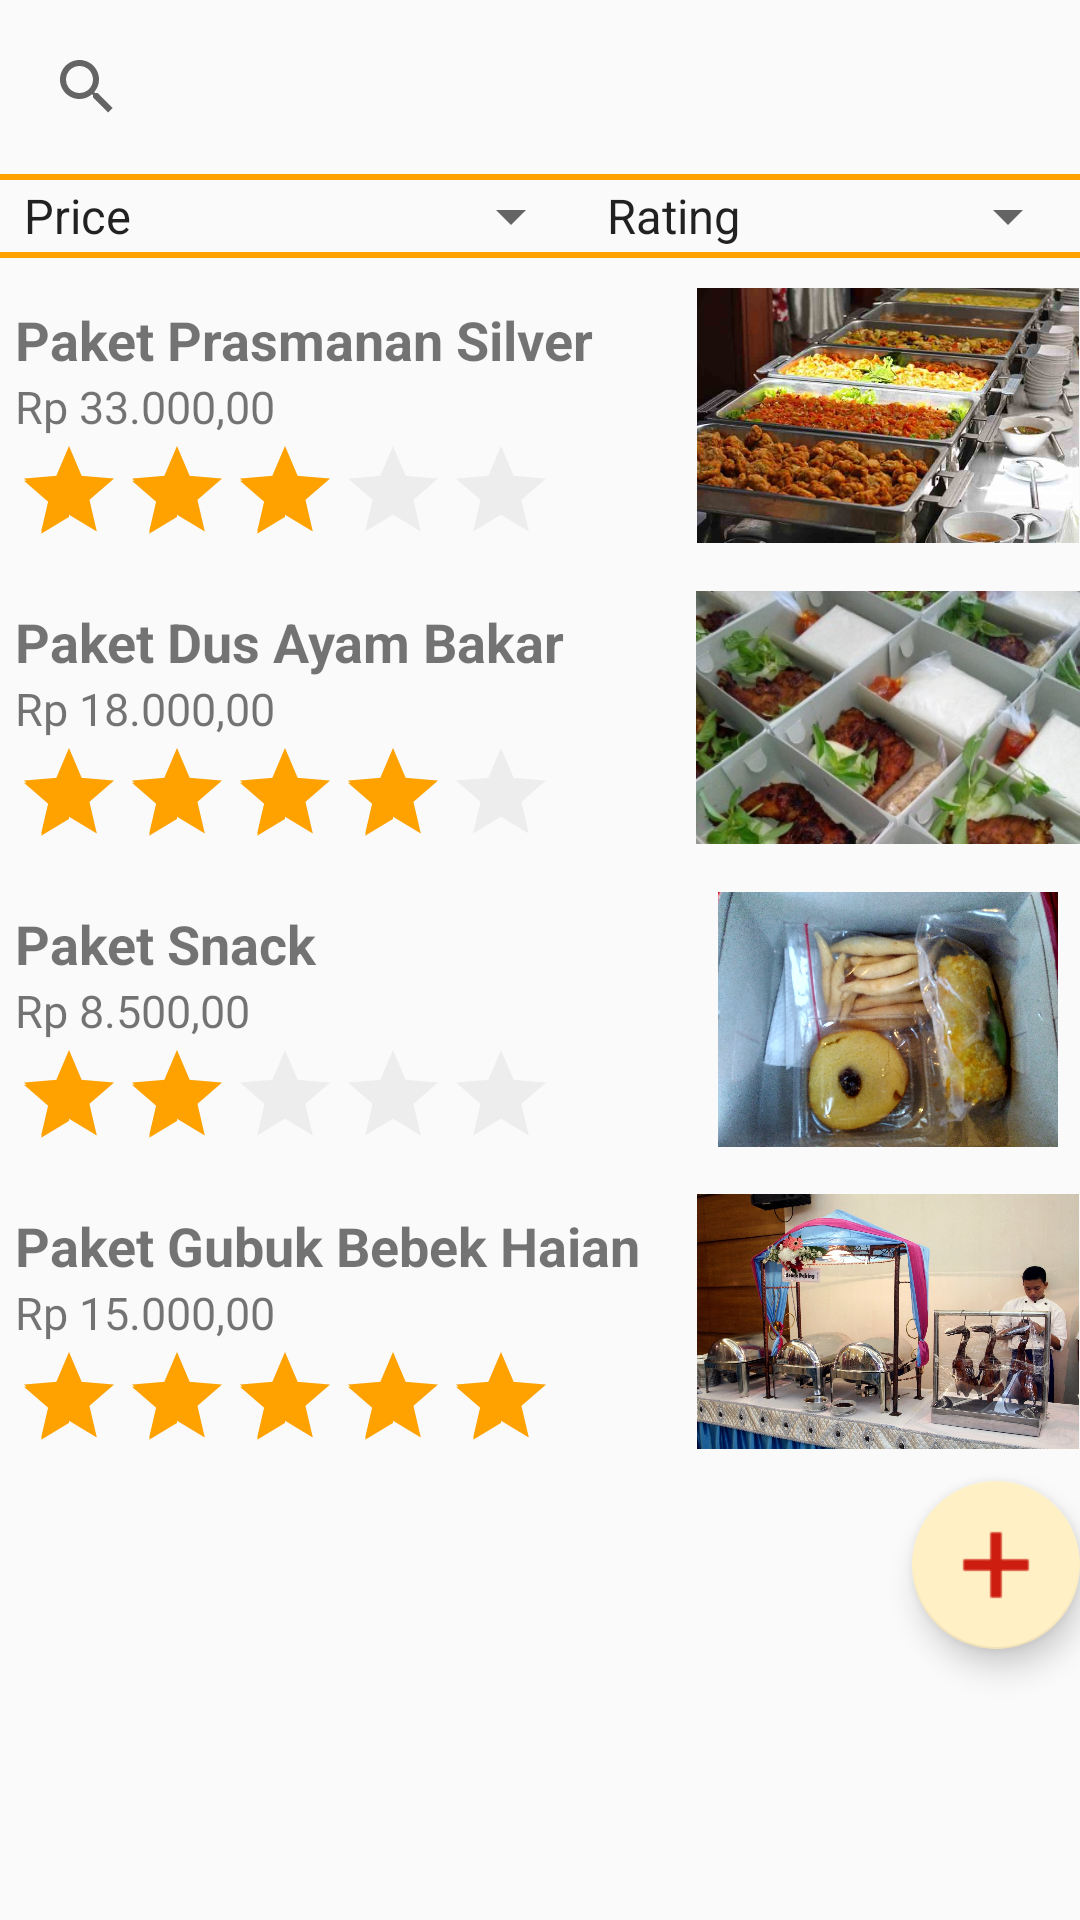

Named icons in this screenshot (1080 x 1920) and their bounding boxes, (x1, y1, x2, y2):
plus: (912, 1481, 1080, 1649)
